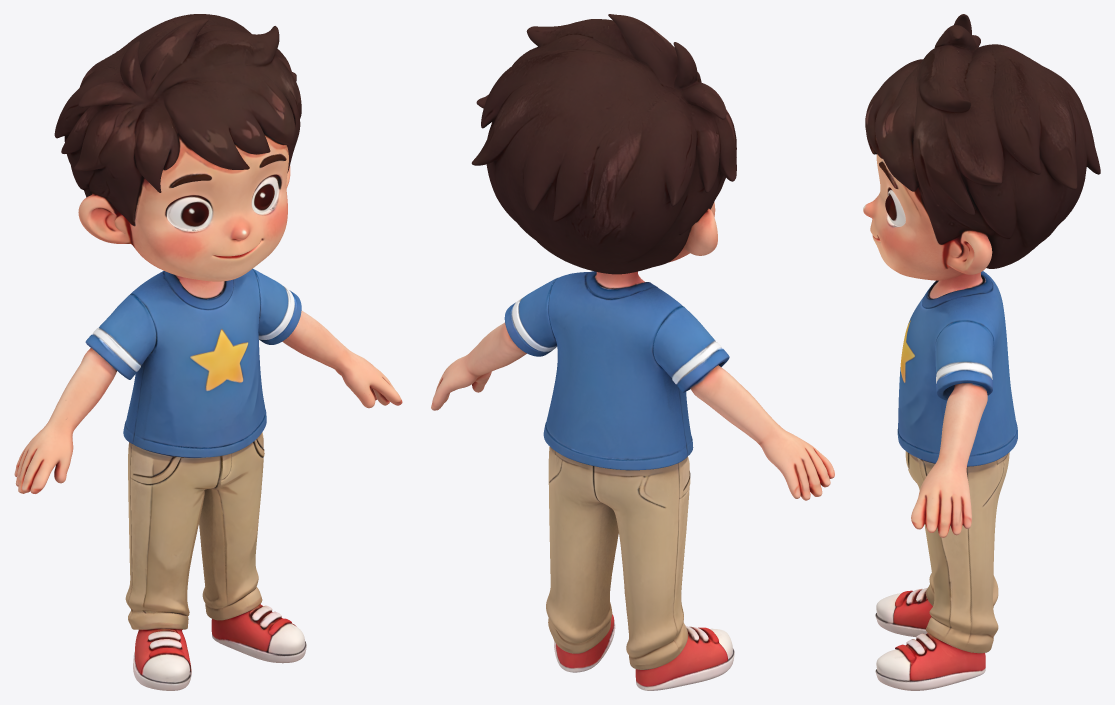
File: base_basic_shaded.glb
3 renders of one model, left to right at view 1: azimuth 30°, elevation 25°; view 2: azimuth 150°, elevation 25°; view 3: azimuth 270°, elevation 25°, orthographic. The views are drawn at different scales.
Parts seen in each view (by area): view 1: model; view 2: model; view 3: model.
Boxes of the visible parts, x1,y1,x2,y2 form: model: (14,14,402,690); model: (431,14,834,690); model: (863,14,1100,690).
Bounding box in the file's own units: 1.19 × 1.9 × 0.6573.
Materials: 1 (1 with a texture image).
